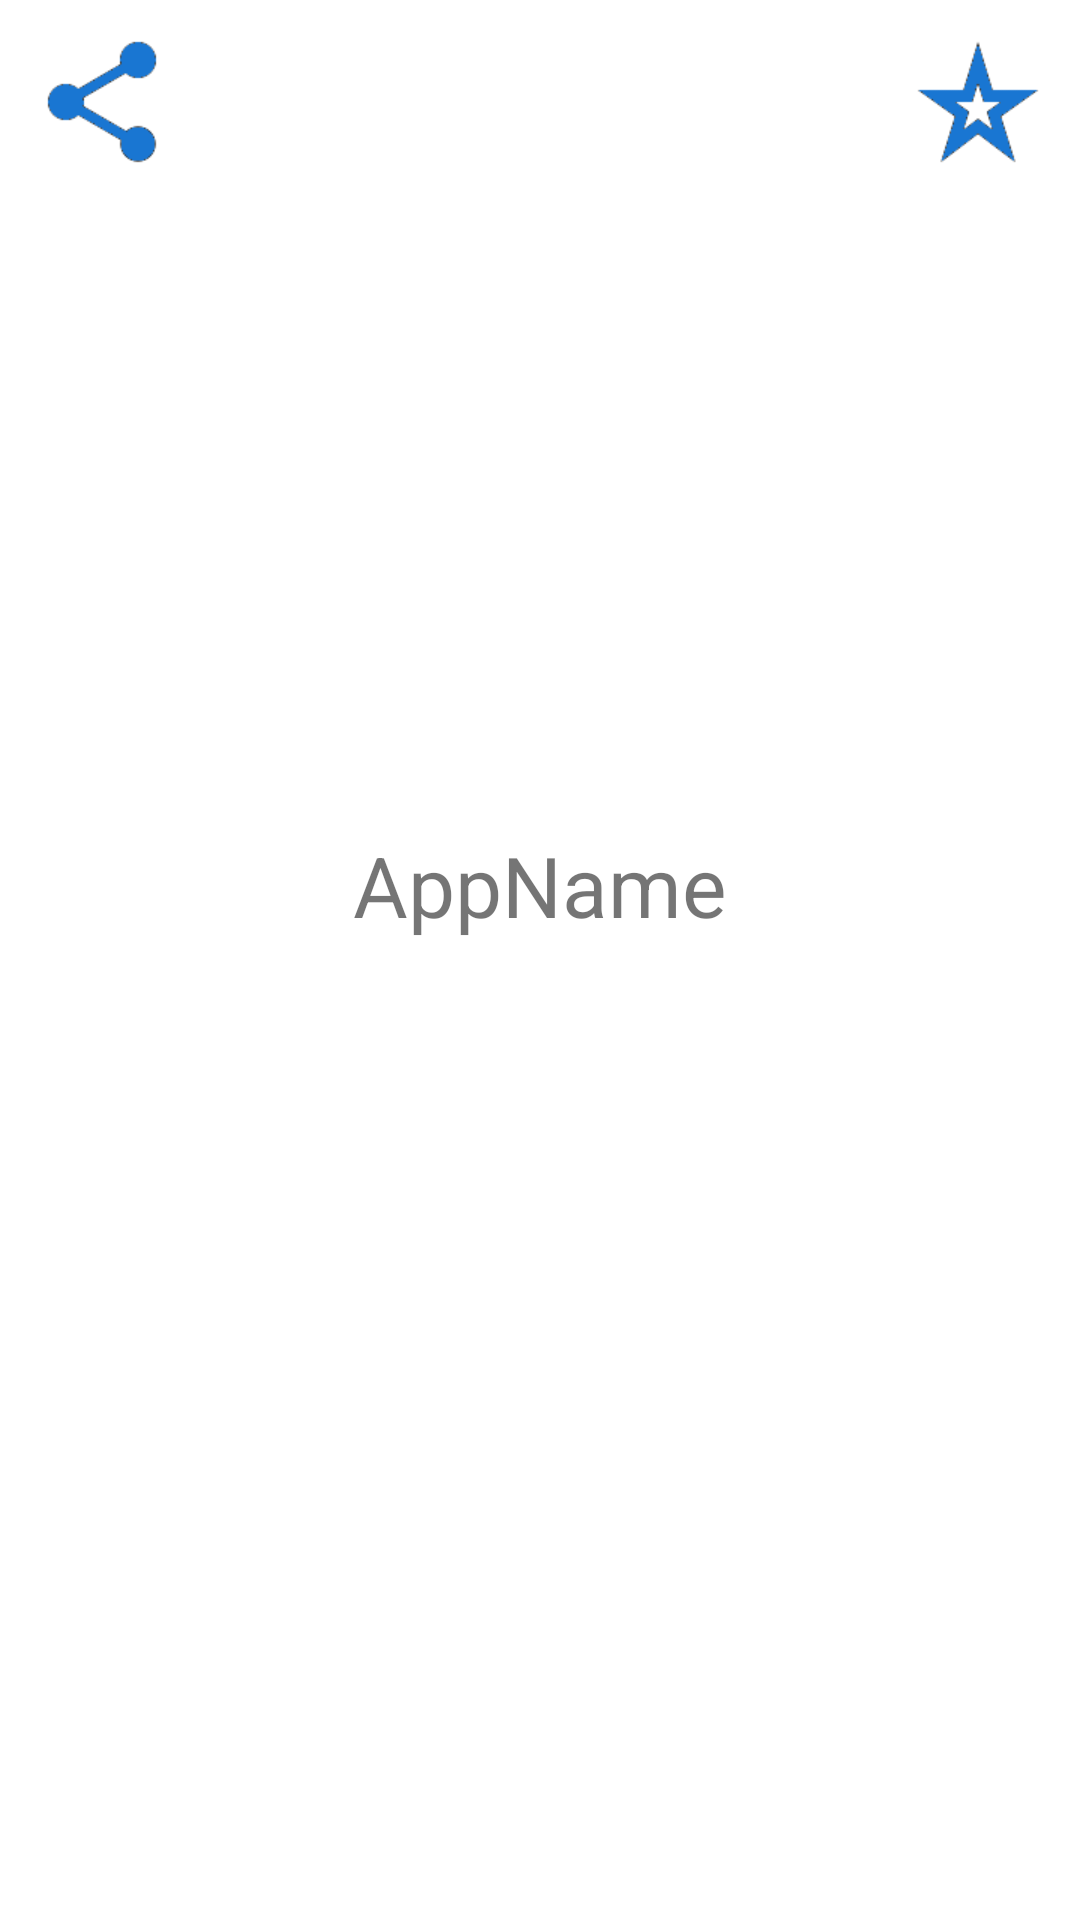

Icon bounding boxes for this 1080px×1920px phone screenshot, format [x1, y1, x2, y2]:
share: [47, 41, 157, 163]
star rate: [918, 42, 1038, 162]
